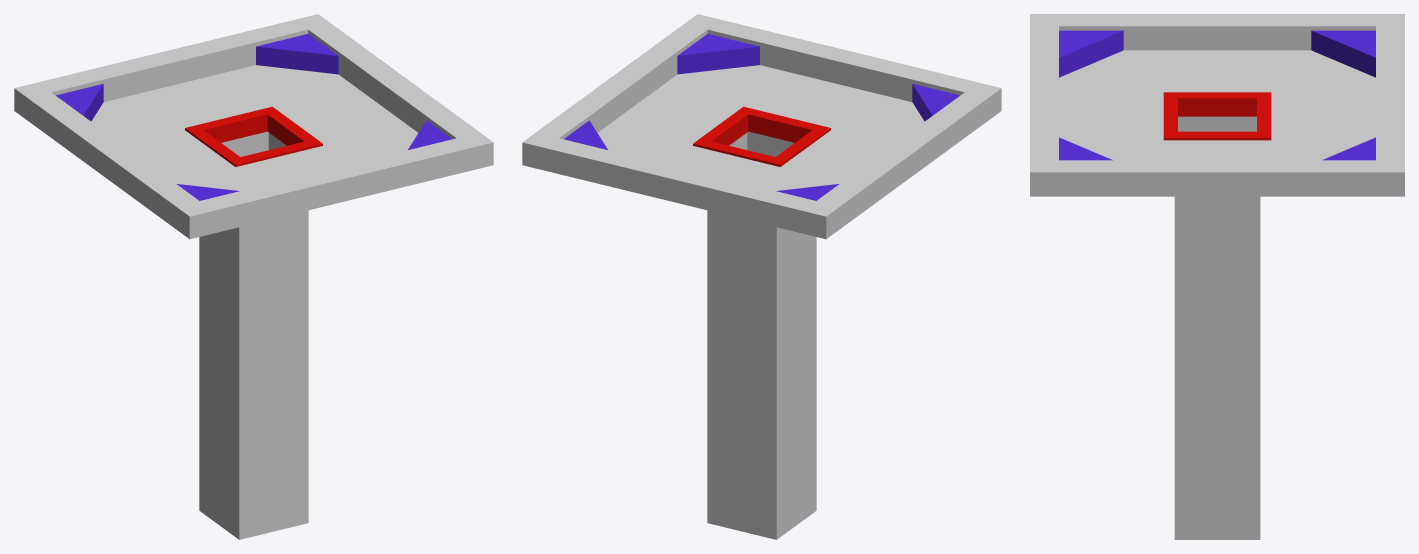
Rendered from level_mob_grinder.glb.
The picture shows the model from 3 angles, left to right: view 1: azimuth 30°, elevation 25°; view 2: azimuth 150°, elevation 25°; view 3: azimuth 270°, elevation 25°; orthographic projection. The views are drawn at different scales.
Parts seen in each view (by area): view 1: Hole Floor, Ramp, Hole Outline; view 2: Hole Floor, Ramp, Hole Outline; view 3: Hole Floor, Ramp, Hole Outline.
Part boxes in pixels (x1=…): Hole Floor: x1=14, y1=14, x2=493, y2=539; Ramp: x1=56, y1=34, x2=451, y2=200; Hole Outline: x1=185, y1=106, x2=322, y2=166; Hole Floor: x1=522, y1=14, x2=1001, y2=539; Ramp: x1=564, y1=34, x2=959, y2=200; Hole Outline: x1=693, y1=106, x2=830, y2=166; Hole Floor: x1=1030, y1=14, x2=1404, y2=539; Ramp: x1=1059, y1=30, x2=1375, y2=160; Hole Outline: x1=1163, y1=92, x2=1271, y2=140.
Size of what is drawn, in the model's own units: 60.34 by 76.17 by 60.34.
